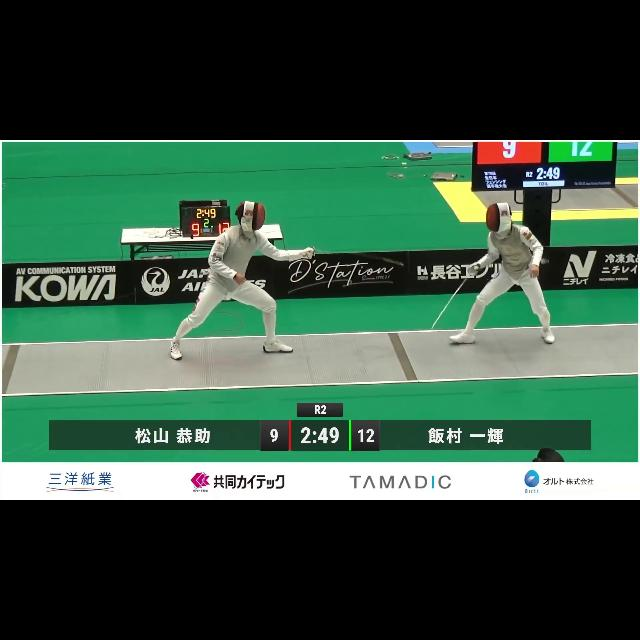blade: (426, 261, 480, 335), (306, 242, 416, 276)
